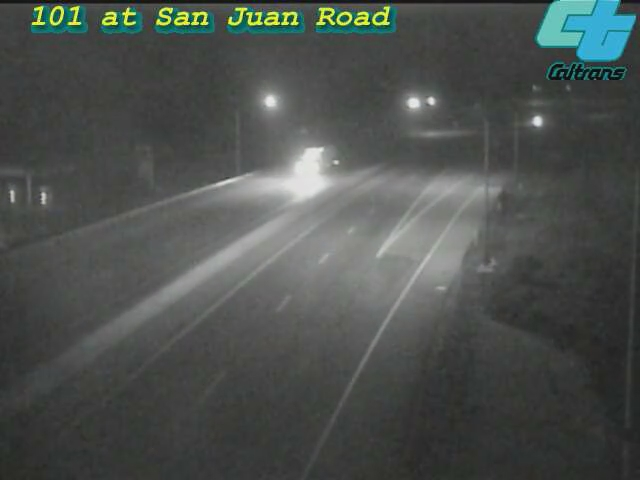vehicle: (276, 124, 356, 204), (512, 96, 562, 146)
